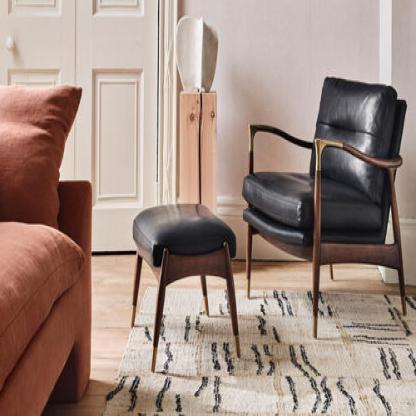chair: (240, 65, 407, 342), (124, 202, 246, 373)
door: (1, 0, 167, 253)
sofa: (0, 80, 94, 416)
